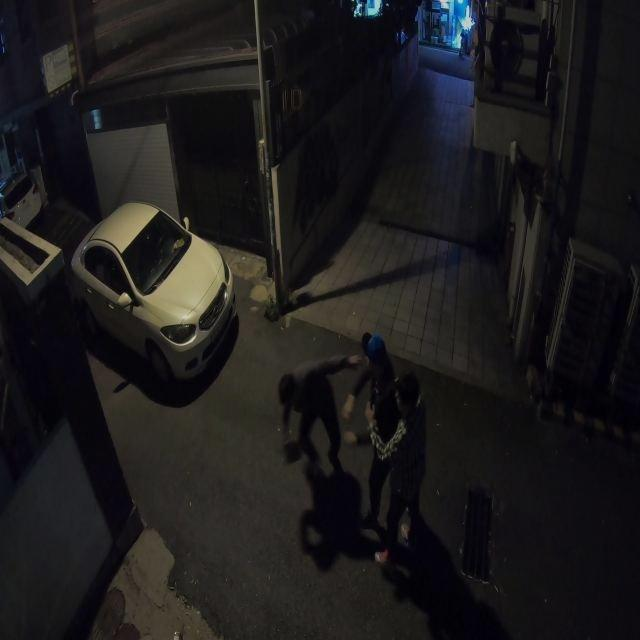fight: (273, 331, 400, 538)
non-fight: (363, 371, 432, 563)
